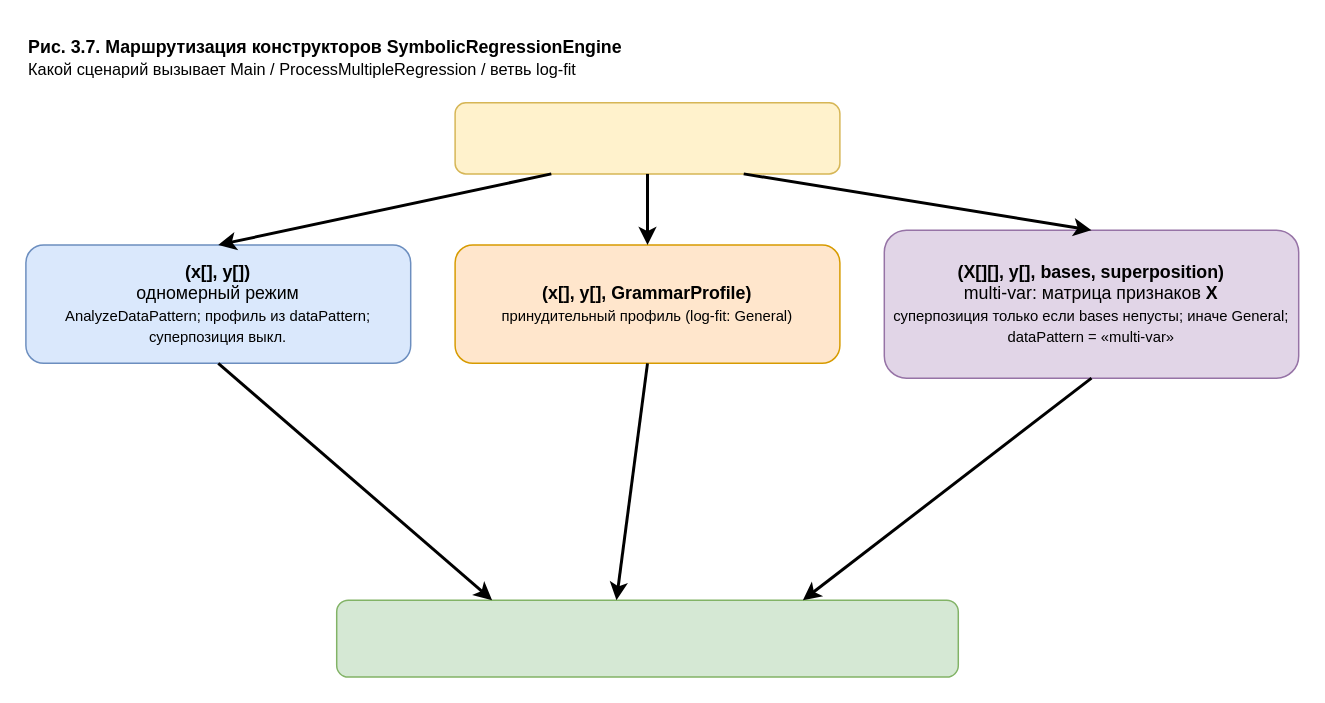
Image size: 1325x703. Some labels were removed from this diagram. Each missing label, with the centre of its shape:
"Вызов SymbolicRegressionEngine …" goes at (647,137).
"Далее: Evolve() , вычисление деревьев Evaluate (рис. 3.8)…" goes at (646,638).
